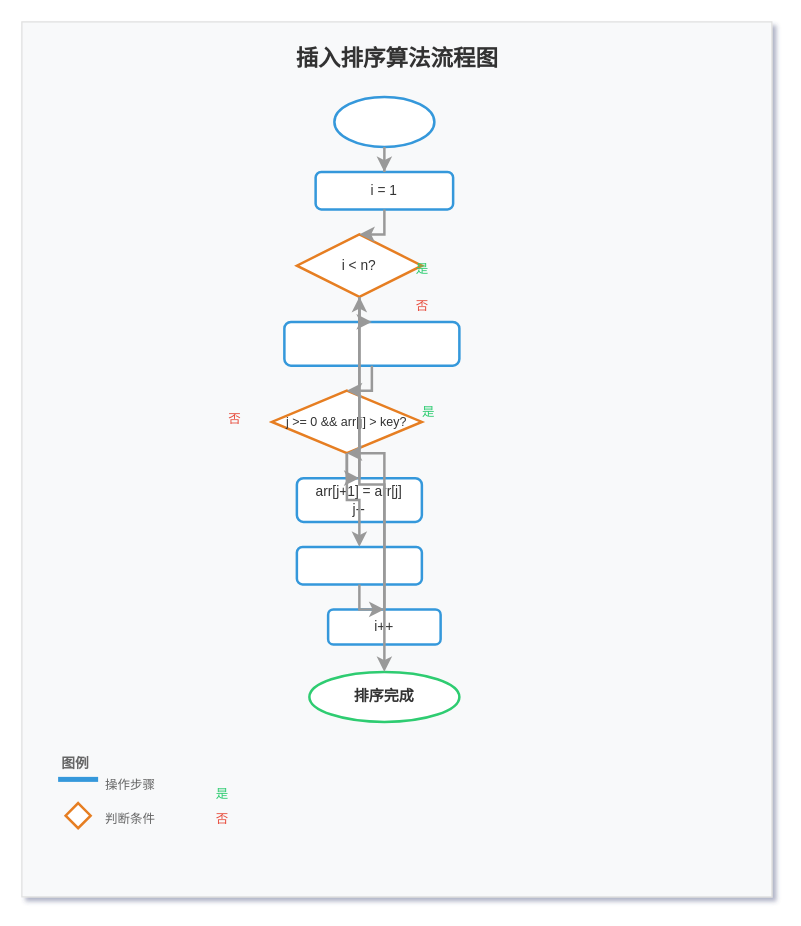
This 801x926 diagram has some shape labels left out. Each missing label, with the centre of its shape:
"arr[j+1] = key" belongs at pixel 358 565.
"key = arr[i] j = i - 1" belongs at pixel 371 343.
"开始" belongs at pixel 383 121.
